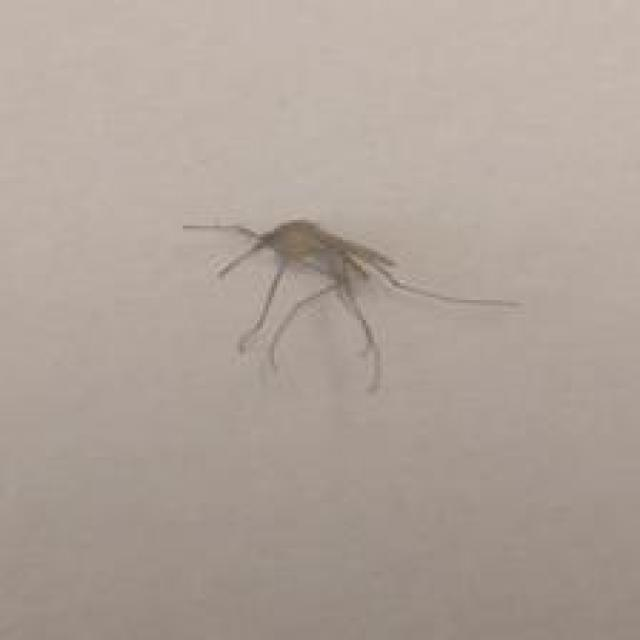Culex: (180, 214, 523, 394)
